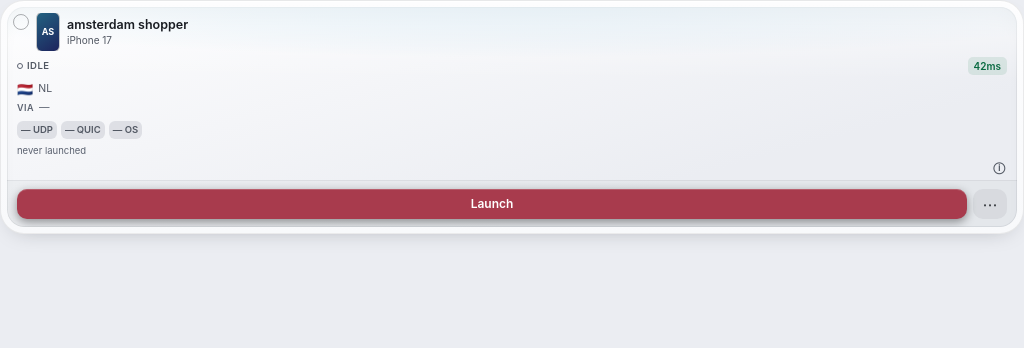
Test: owner item 1 — every colour on the Profiles card is a theme token › the ⋯ menu (portaled to the body) wears no literal colour either
What coordinates should you click on to do the following:
click the button named "More actions"
I would click on:
 (990, 204)
Its box is [973,189,1007,219].
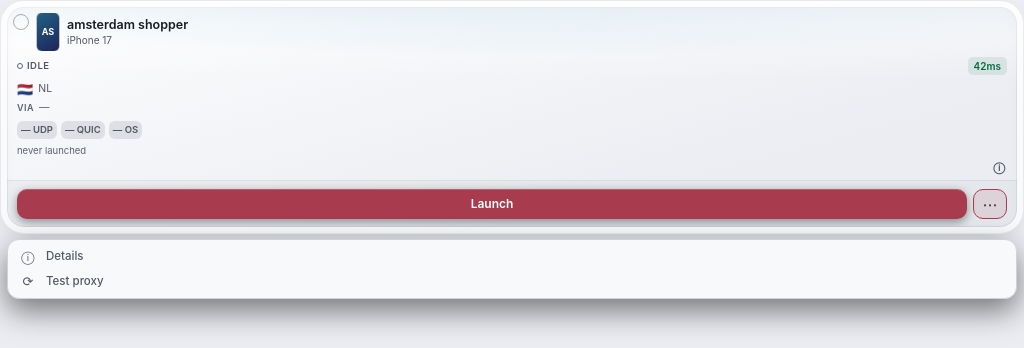
Result: the element showing "ⓘ Details ⟳ Test proxy" is shown at [7,239,1017,299]
